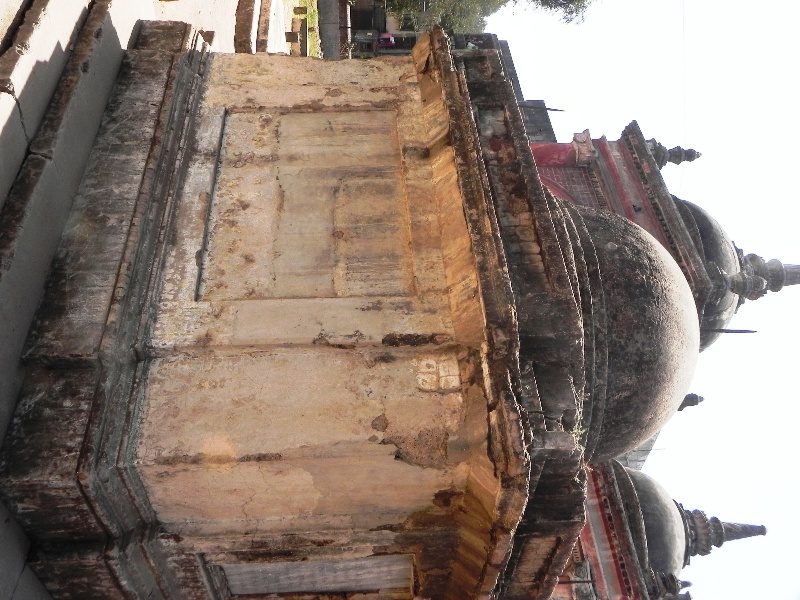Spalling: (370, 389, 455, 473)
